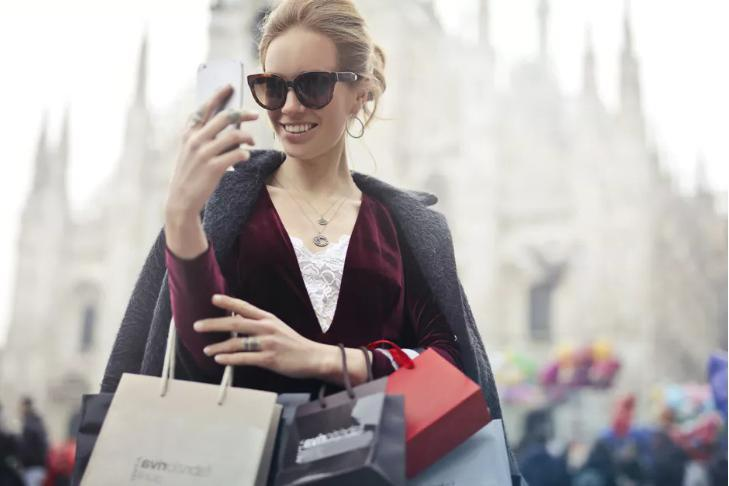face: (265, 31, 345, 159)
